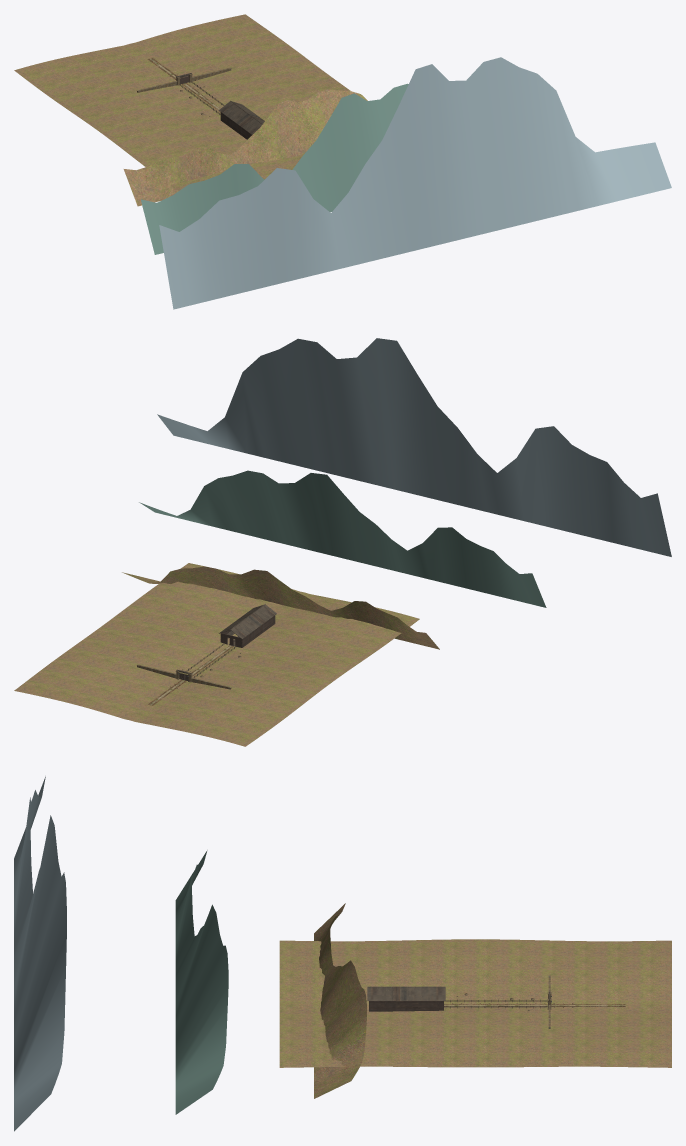
Rendered from finca_world.glb.
The picture shows the model from 3 angles, top to bottom: view 1: azimuth 30°, elevation 25°; view 2: azimuth 150°, elevation 25°; view 3: azimuth 270°, elevation 25°; orthographic projection. The views are drawn at different scales.
Parts seen in each view (by area): view 1: Ridge_Far_Cordillera, Terrain_Meadow, Ridge_Mid_Turrialba, Ridge_Near_North, Barn_Roof_L; view 2: Ridge_Far_Cordillera, Terrain_Meadow, Ridge_Mid_Turrialba, Ridge_Near_North, Barn_Roof_L; view 3: Terrain_Meadow, Ridge_Far_Cordillera, Ridge_Mid_Turrialba, Ridge_Near_North, Barn_Roof_R, Barn_Wall_R.
Boxes of the visible parts, x1,y1,x2,y2 form: Ridge_Far_Cordillera: (159,57,671,309); Terrain_Meadow: (14,14,350,190); Ridge_Mid_Turrialba: (140,83,408,254); Ridge_Near_North: (123,89,367,206); Barn_Roof_L: (219,101,262,134); Ridge_Far_Cordillera: (157,338,671,556); Terrain_Meadow: (14,563,419,746); Ridge_Mid_Turrialba: (139,470,546,607); Ridge_Near_North: (122,566,439,649); Barn_Roof_L: (230,604,276,639); Terrain_Meadow: (279,939,671,1067); Ridge_Far_Cordillera: (14,776,66,1131); Ridge_Mid_Turrialba: (175,850,228,1114); Ridge_Near_North: (314,903,366,1098); Barn_Roof_R: (367,986,445,1000); Barn_Wall_R: (369,1001,443,1011).
Size of the model in its own units: 280 by 98.72 by 285.
12 materials, 7 textured.
